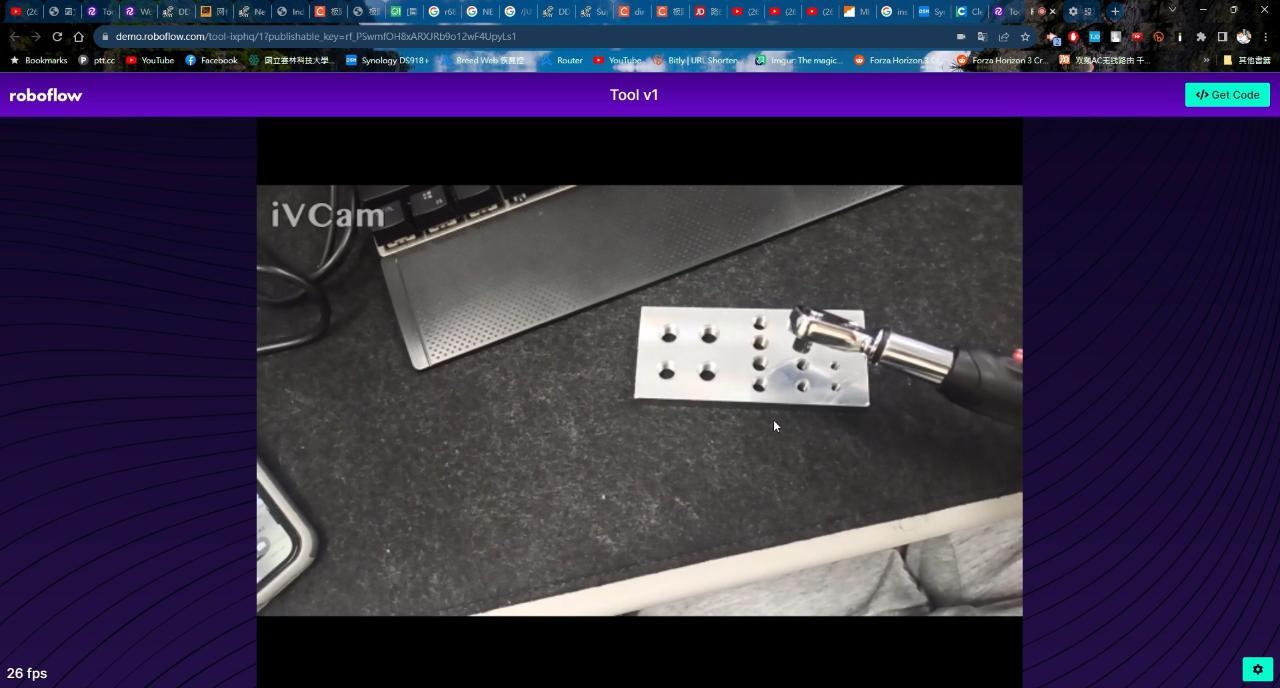Tool: (792, 306, 876, 362)
hole: (255, 520, 282, 561), (692, 325, 725, 344), (652, 363, 683, 381), (748, 332, 778, 350), (654, 327, 685, 344), (690, 365, 720, 382), (746, 356, 775, 373), (746, 377, 774, 393), (748, 316, 776, 332), (794, 356, 819, 369), (794, 376, 815, 388), (824, 359, 844, 370), (826, 378, 846, 388)
